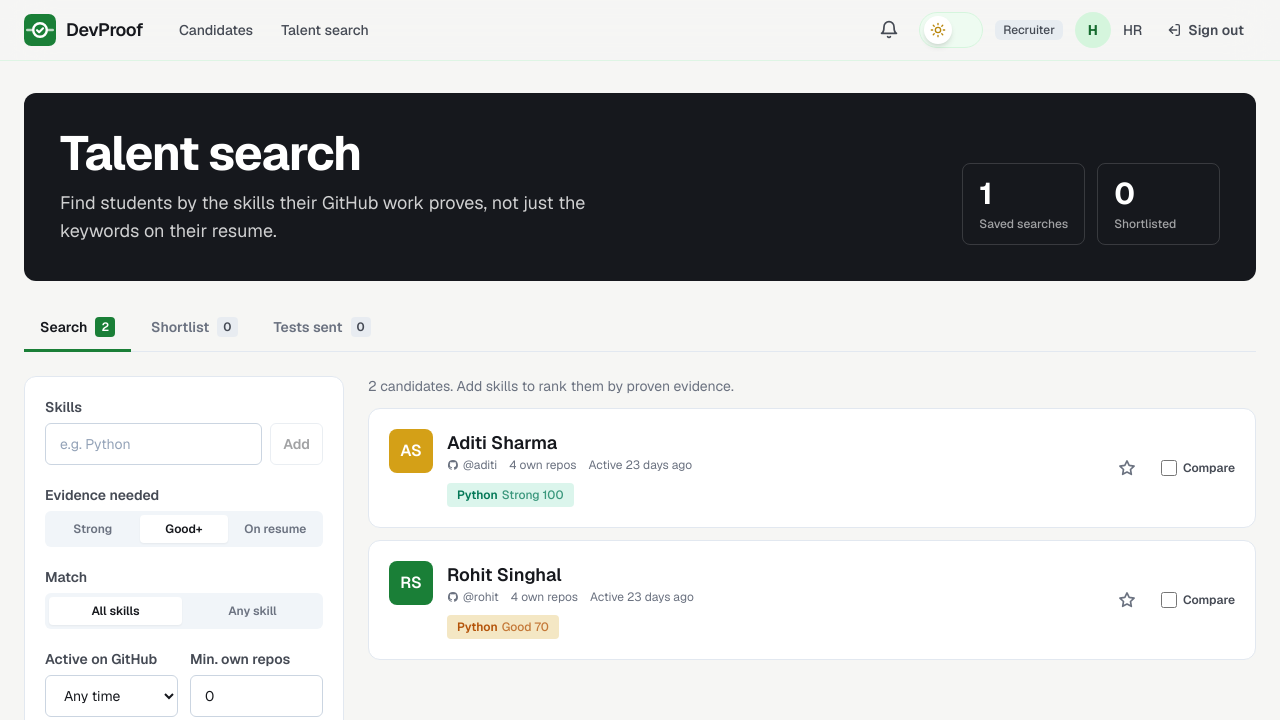
TalentSearch page › compares the selected candidates side by side
The width and height of the screenshot is (1280, 720).
Click the checkbox labelled "Compare" in the row of "@aditi": (1169,468) [1161,460,1177,476]
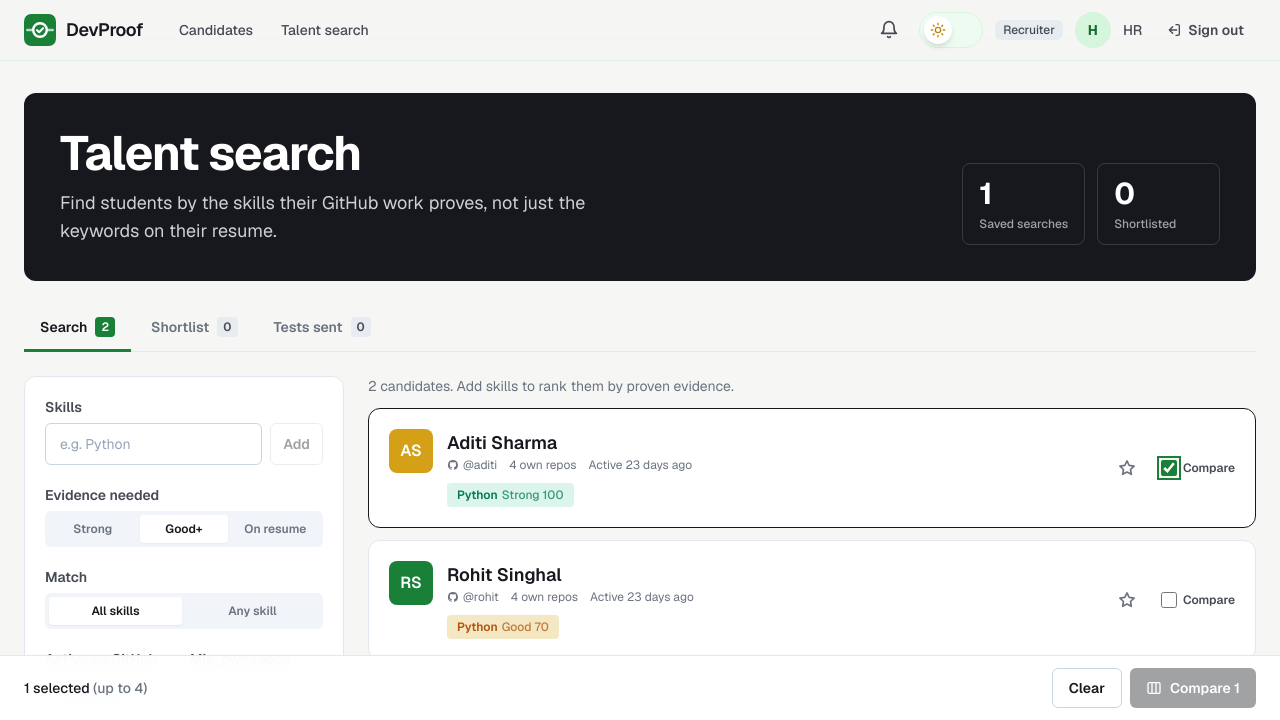
Expected: the button "Compare 1" is disabled, [1130,668,1256,708]
Click the checkbox labelled "Compare" in the row of "@rohit": (1169,600) [1161,592,1177,608]
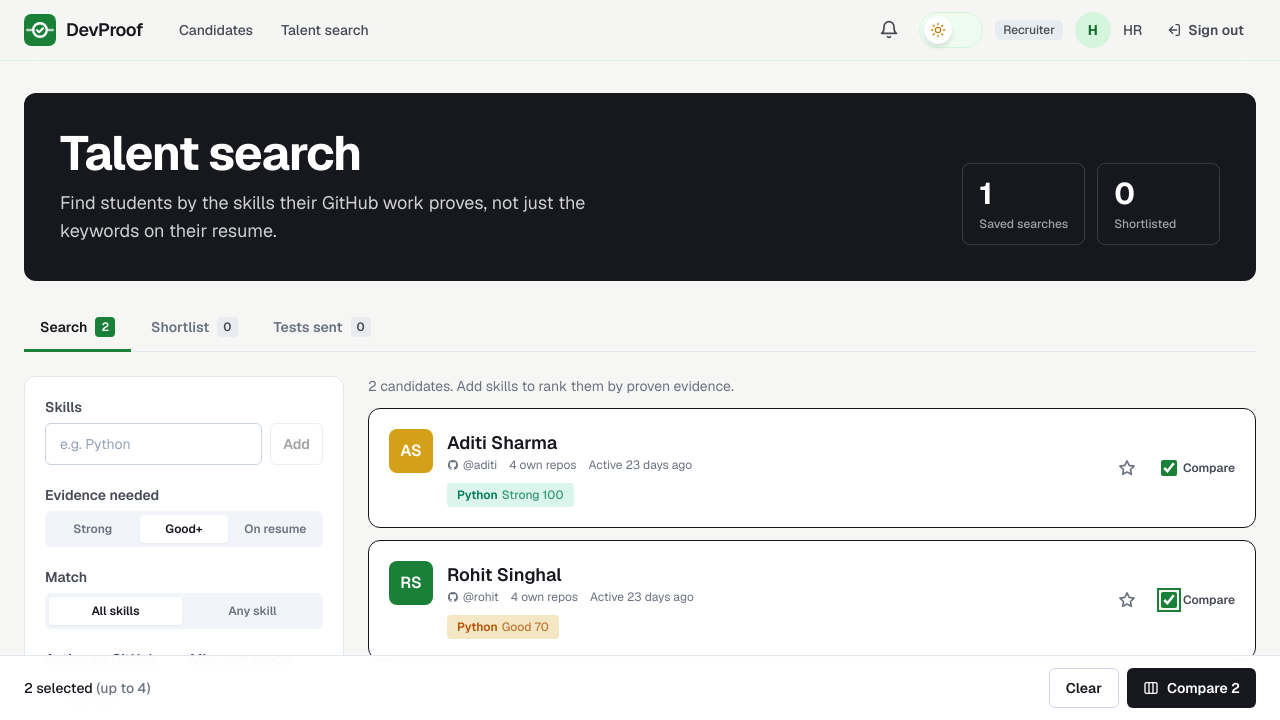
Click the button "Compare 2": (1191,688) [1127,668,1256,708]
(page scrolled)
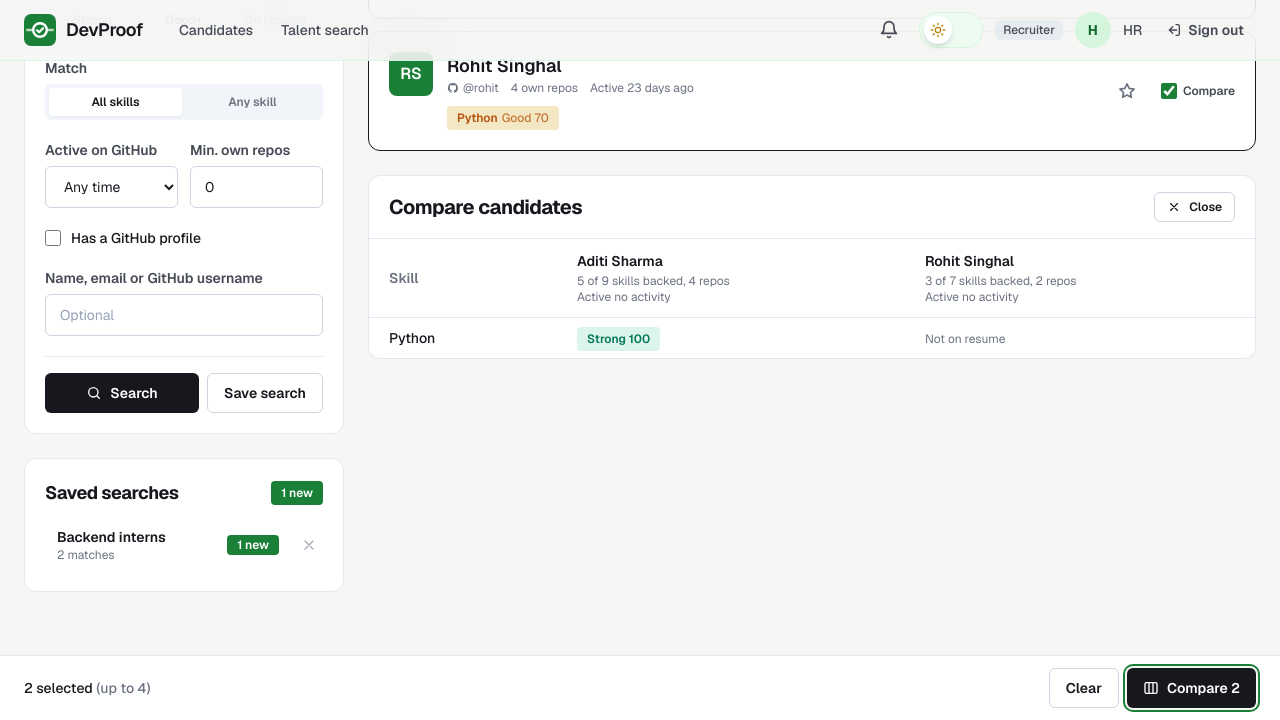
Expected: the text "Not on resume" is shown, [925,331,1006,347]
